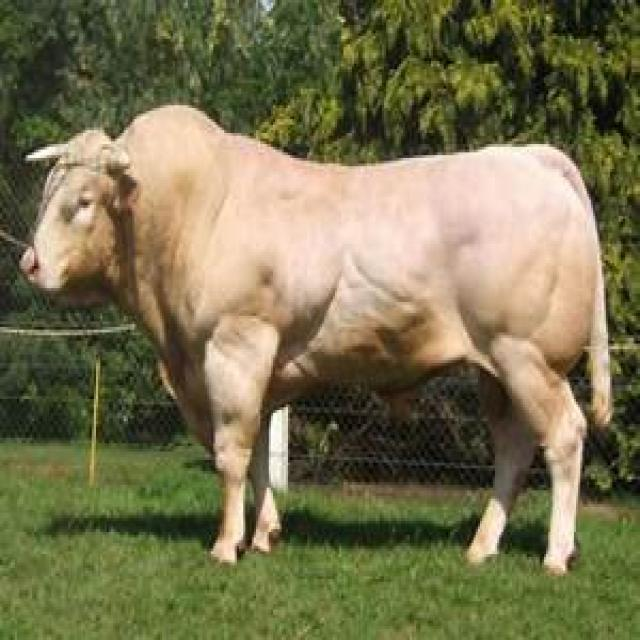cow: (22, 106, 611, 572)
